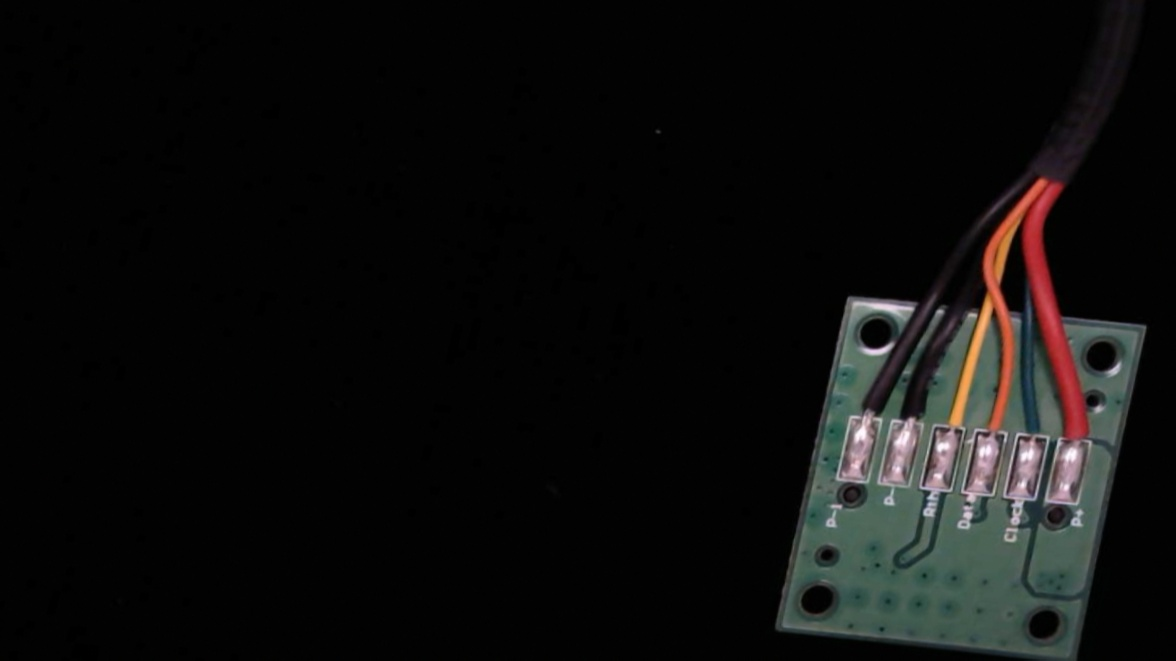Black: (888, 377, 934, 439)
Black1: (846, 372, 895, 434)
Green: (1010, 396, 1056, 453)
Orange: (973, 387, 1016, 449)
Red: (1053, 393, 1105, 454)
Yellow: (931, 381, 976, 445)
